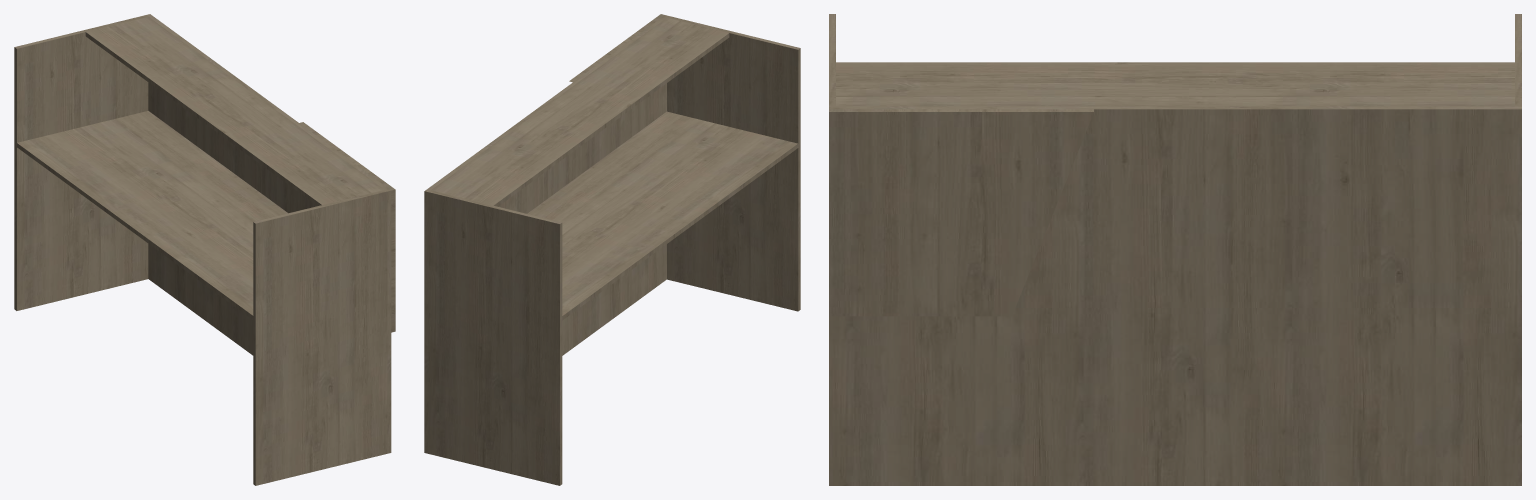
The model's file is res5.glb.
The picture shows the model from 3 angles, left to right: view 1: azimuth 30°, elevation 25°; view 2: azimuth 150°, elevation 25°; view 3: azimuth 270°, elevation 25°; orthographic projection. The views are drawn at different scales.
Parts seen in each view (by area): view 1: Box042, Box043, Box044, Box045, Box041, Box046; view 2: Box043, Box042, Box044, Box045, Box041, Box046; view 3: Box041, Box046, Box045.
Part boxes in pixels (x1,y1,x2,y2): Box042: (253, 190, 387, 485); Box043: (14, 15, 148, 310); Box044: (17, 111, 287, 319); Box045: (85, 17, 384, 205); Box041: (146, 14, 391, 453); Box046: (299, 122, 395, 332); Box043: (428, 190, 562, 485); Box042: (667, 16, 800, 311); Box044: (527, 111, 798, 320); Box045: (431, 18, 729, 206); Box041: (424, 15, 668, 453); Box046: (569, 14, 664, 82); Box041: (829, 106, 1521, 485); Box046: (829, 109, 1093, 316); Box045: (836, 62, 1514, 106).
Bounding box in the file's own units: 0.67 × 1.2 × 2.
Materials: 1 (1 with a texture image).
